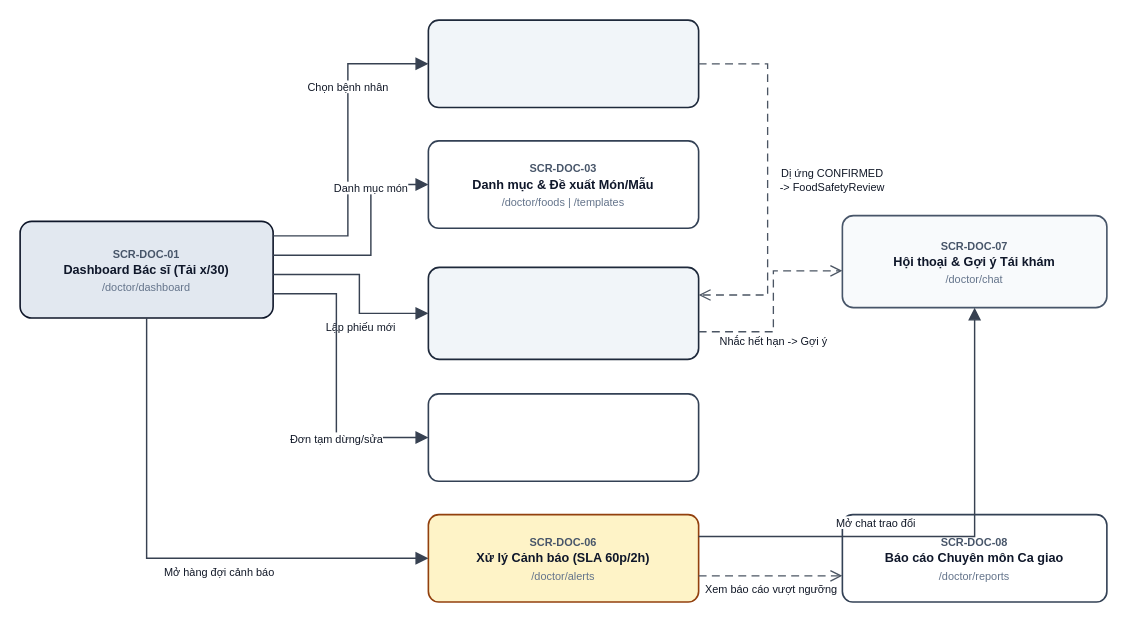
Some shapes in this 1128 by 623 pixel diagram are drawn without their labels. The shapes that lost their labels are listed below. From the top down, each one's centre as x and y in pixels, then its label:
At (x=563, y=63): "SCR-DOC-02 Hồ sơ Bệnh nhân & Xét Dị ứng /doctor/patients/{id}".
At (x=563, y=313): "SCR-DOC-04 Soạn, Ban hành & Đóng Phiếu /doctor/prescriptions".
At (x=563, y=437): "SCR-DOC-05 Duyệt Hiệu chỉnh & Tạm dừng /doctor/requests".
